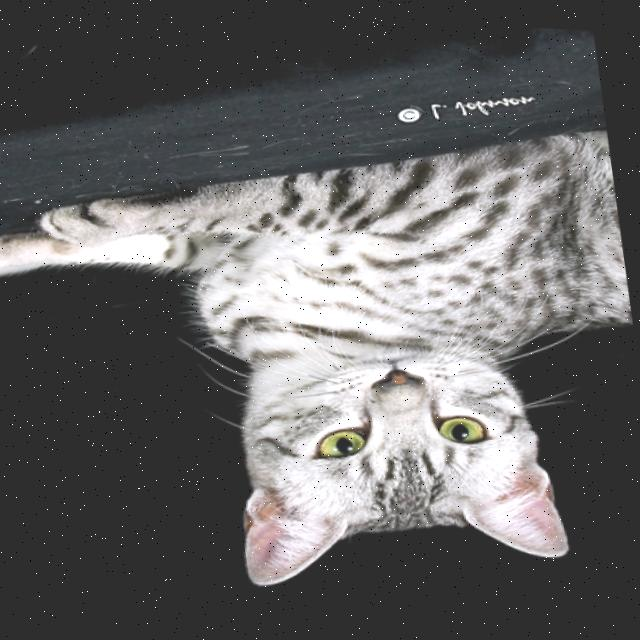Egyptian Mau: (0, 90, 638, 639)
